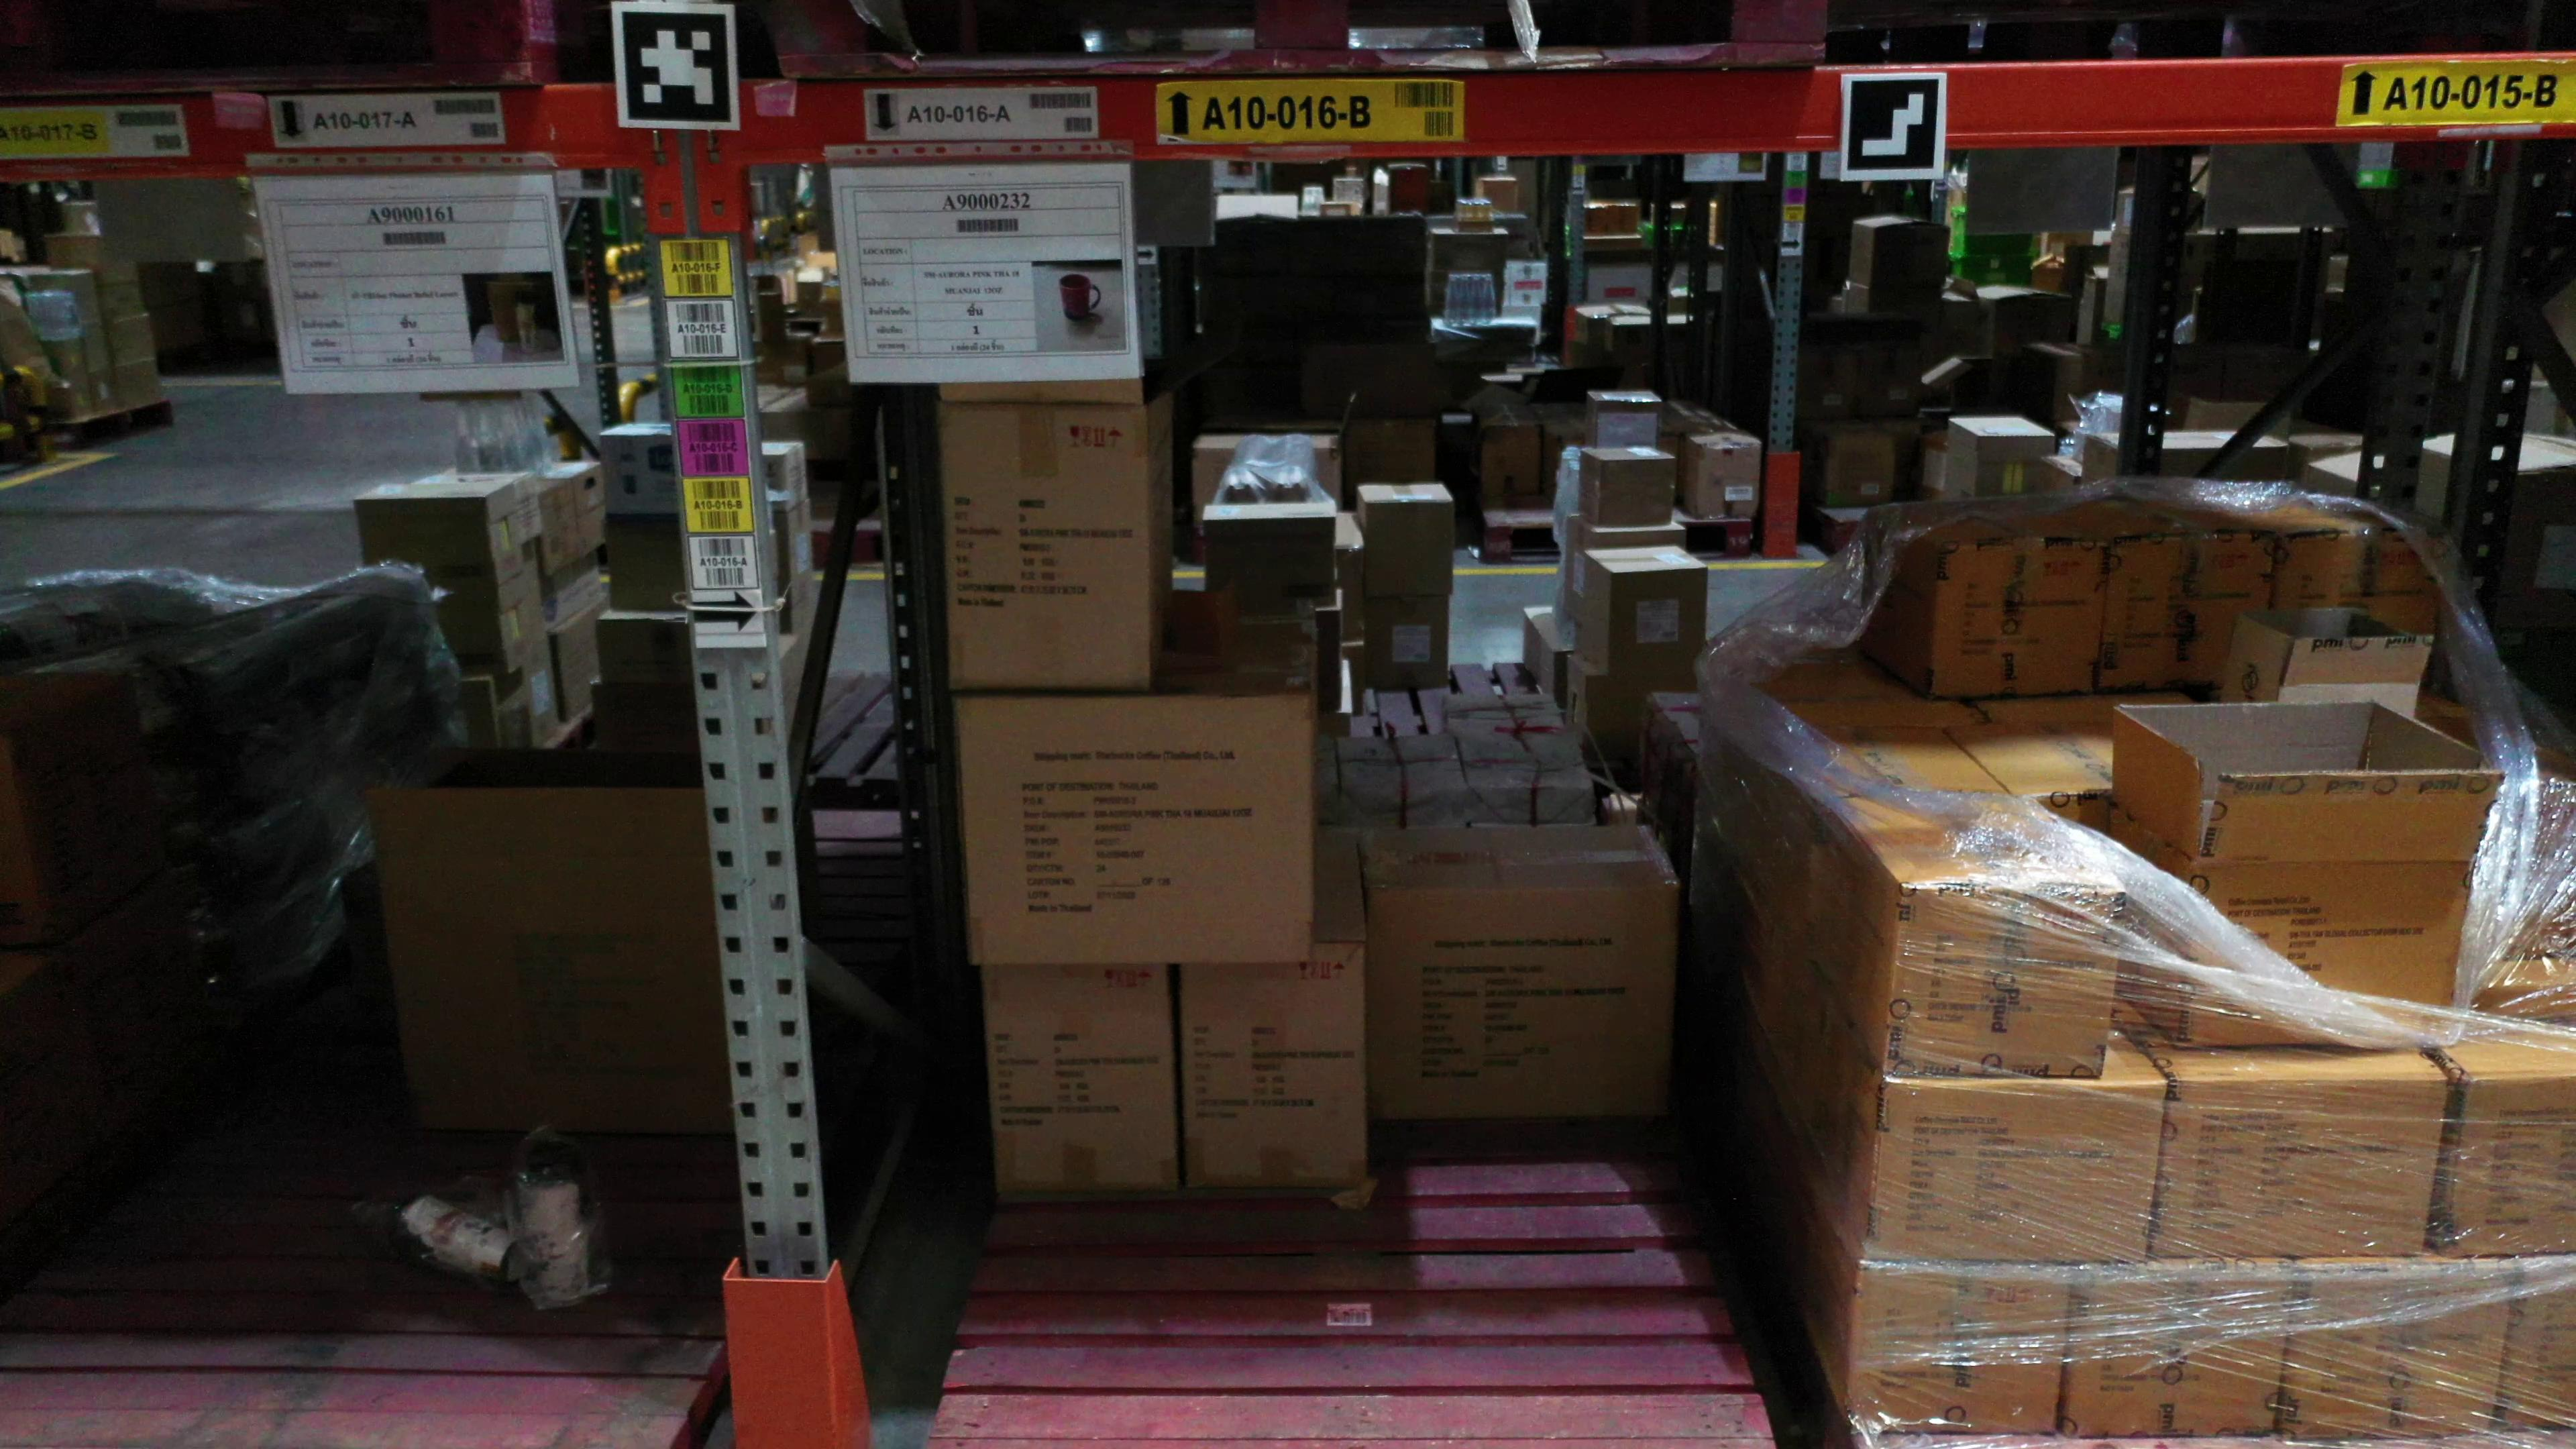-: (372, 791, 738, 1146), (957, 697, 1307, 968), (1364, 879, 1679, 1122), (941, 400, 1152, 694), (2180, 855, 2480, 1049), (1865, 1077, 2171, 1265), (2151, 1077, 2449, 1263), (1177, 943, 1369, 1198), (1884, 881, 2125, 1079), (985, 968, 1180, 1205), (2288, 1261, 2523, 1440), (2061, 1261, 2295, 1438), (1849, 1263, 2070, 1435), (1923, 540, 2102, 701), (2102, 534, 2279, 695), (2443, 1069, 2576, 1265), (2277, 531, 2442, 637), (2493, 1254, 2576, 1431)
